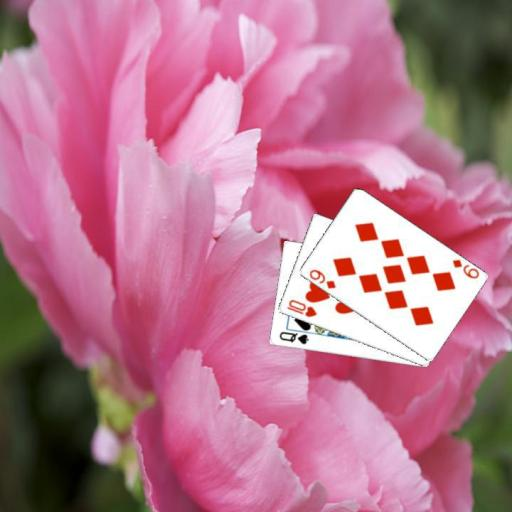10H: (284, 297, 318, 319)
9D: (306, 266, 337, 290), (449, 256, 480, 280)
QS: (276, 329, 310, 347)
